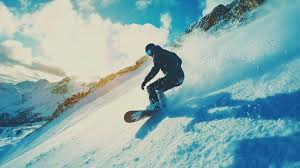snowboard: (123, 107, 162, 124)
